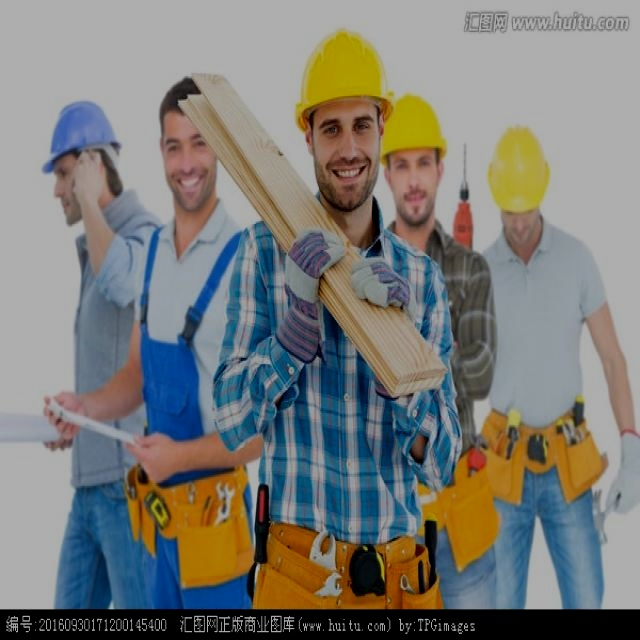Con_Casco: (300, 29, 392, 200), (490, 123, 550, 236)
Sin_Chaleco: (251, 216, 437, 533), (138, 218, 247, 469)
